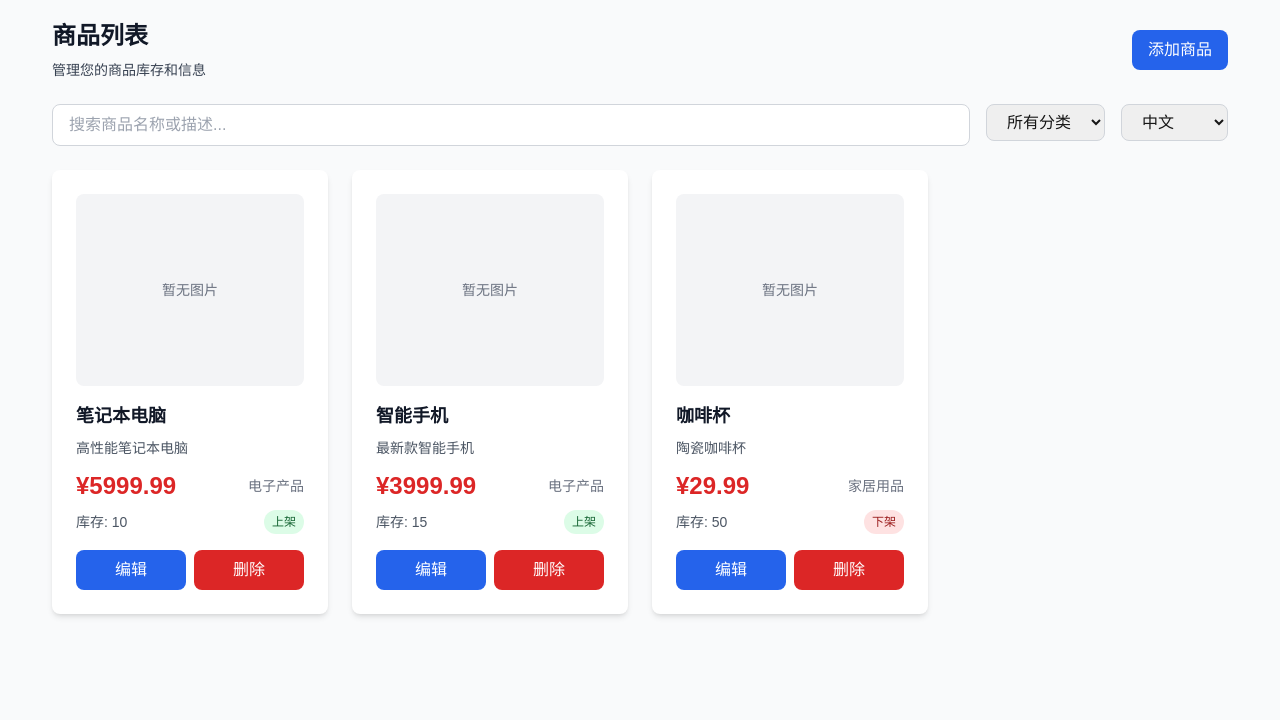
HomePage › filters products by category
This screenshot has width=1280, height=720.
Expected: the heading "笔记本电脑" is shown, [76,406,166,426]
Select "家居用品" in the 1st dropdown showing "所有分类" at (1046, 122), box [986,104,1105,141]
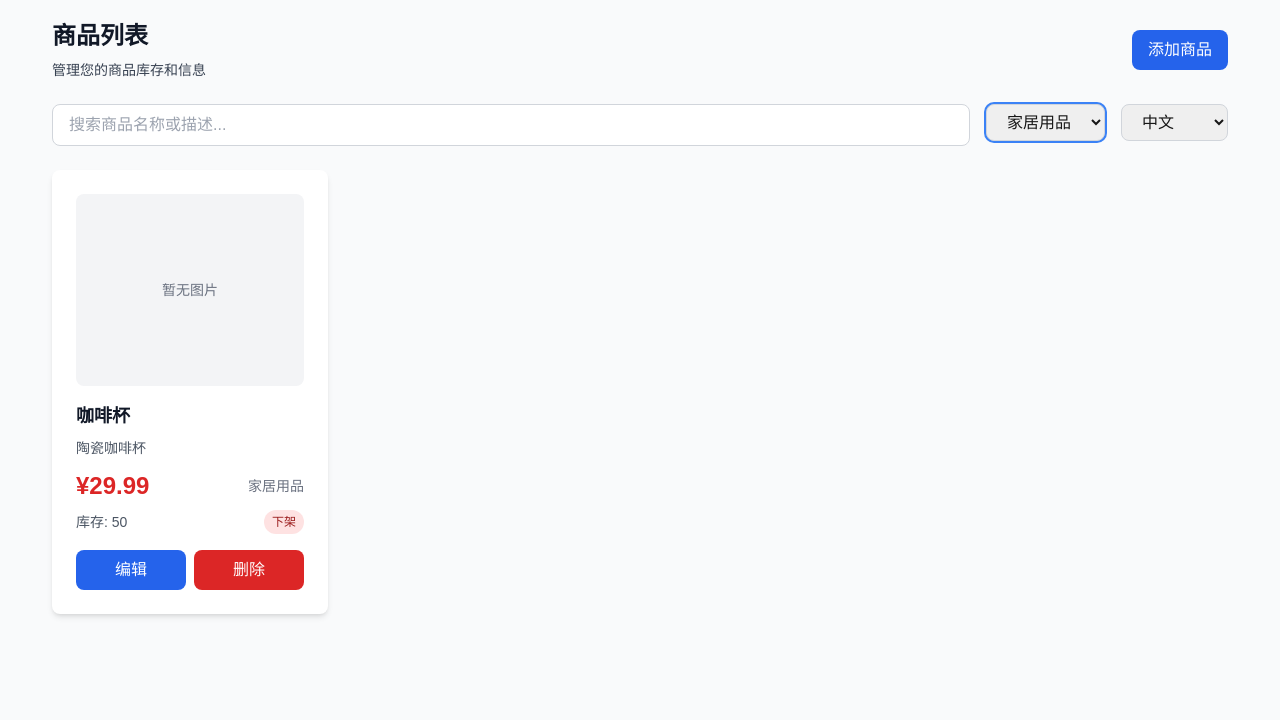
Expected: the heading "咖啡杯" is shown, [76,406,130,426]
Expected: the heading "笔记本电脑" is gone
Expected: the heading "智能手机" is gone
